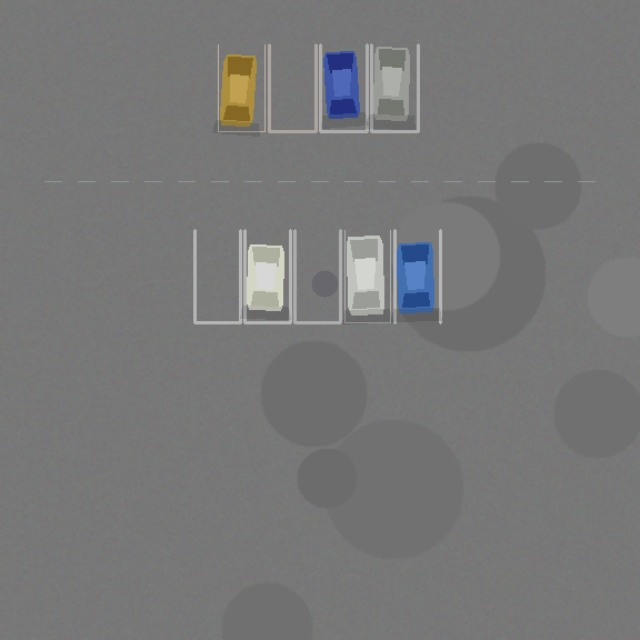space-empty: (194, 230, 240, 322), (294, 230, 340, 322), (269, 44, 316, 131)
space-occupied: (244, 230, 290, 322), (344, 230, 390, 322), (394, 230, 440, 322), (320, 44, 367, 131), (371, 44, 418, 131), (218, 44, 264, 131)
